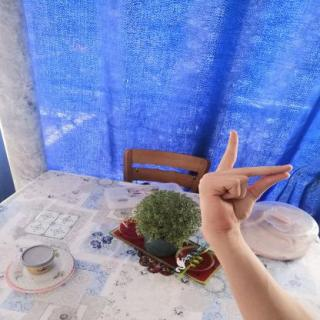TAA: (190, 125, 301, 241)
